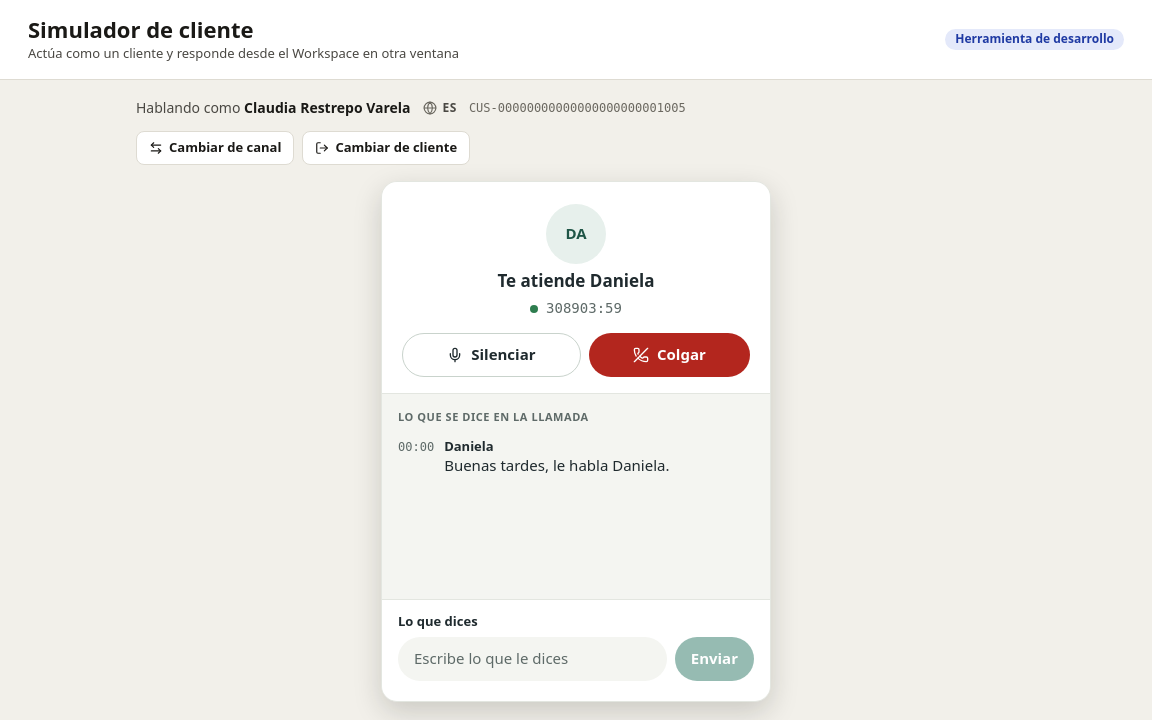
Test: simulator · call (slice 12) › talks with the analyst: title, timer, lines both ways, a local mute
The image size is (1152, 720).
Check: the text "Te atiende Daniela" is shown, box [497,270,654,292]
Check: the list item reads "00:00 Daniela Buenas tardes, le habla Daniela.", box [398,437,670,475]
Type "Hola, veo un cobro raro." into the field labelled "Lo que dices" at (532, 659), box [398,637,667,681]
Then press Enter
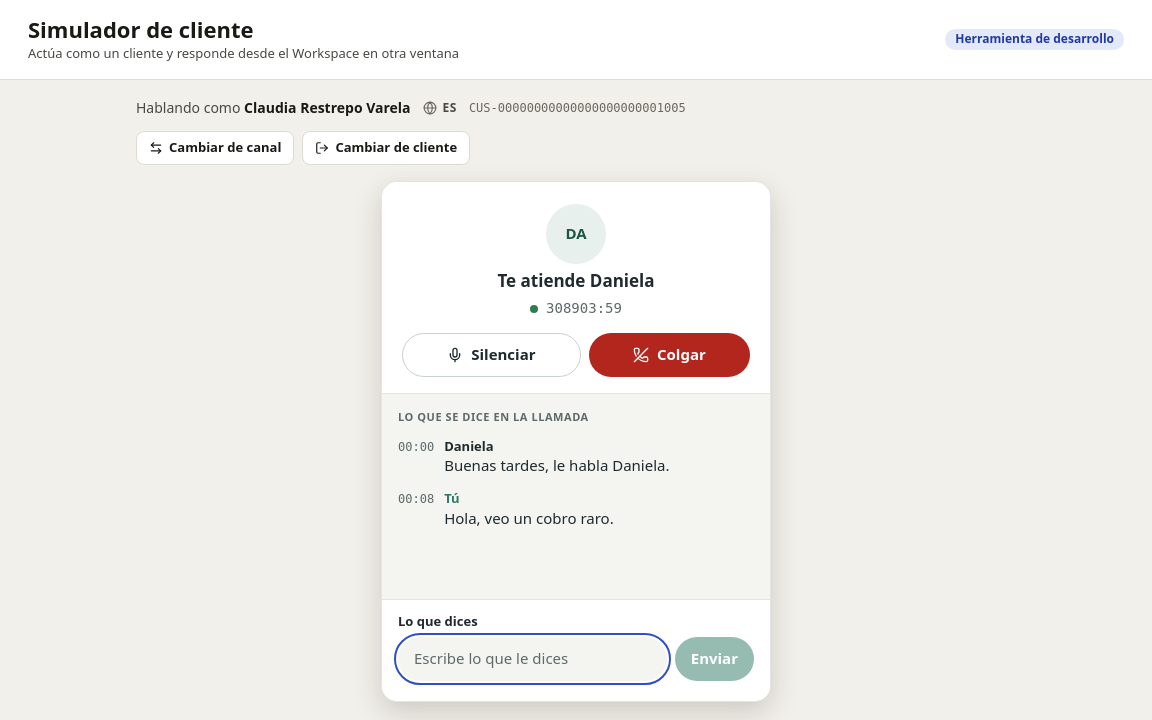
Check: the text "Hola, veo un cobro raro." is shown, box [444,508,614,530]
Note: "Silenciar" is the customer's microphone, here only.
Click the button "Silenciar" at (491, 355), box [402,333,581,377]
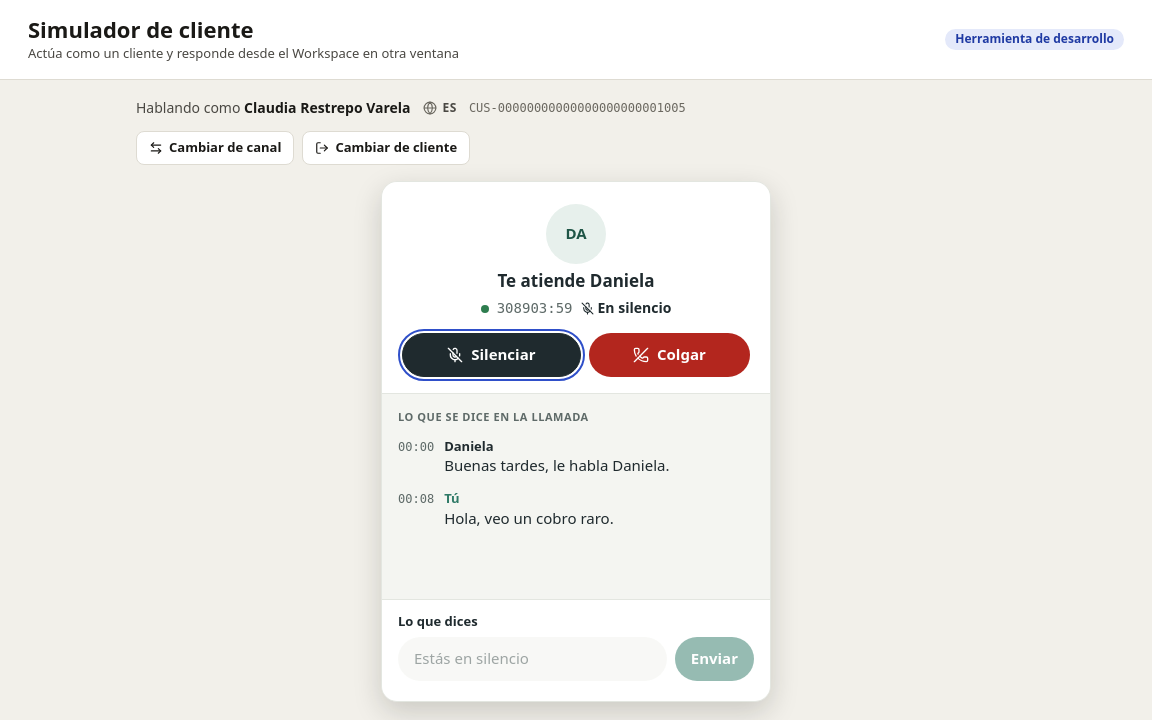
Check: the field labelled "Lo que dices" is disabled, box [398,637,667,681]
Check: the element named "Llamada con el banco" shows "En silencio", box [598,298,671,318]
